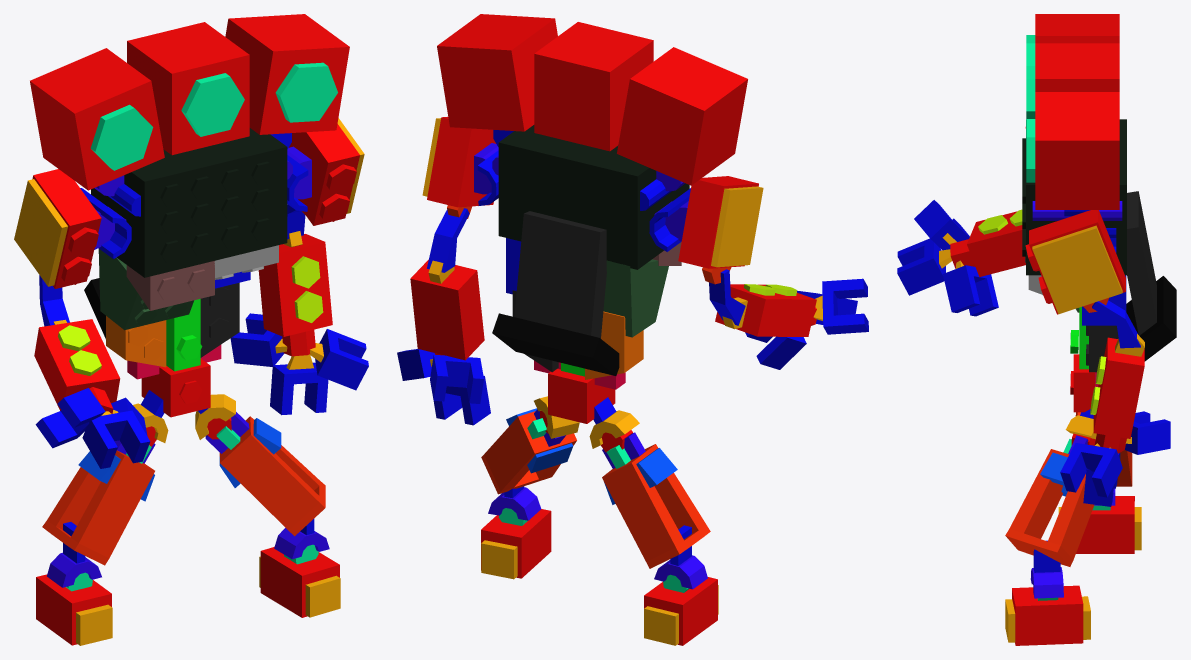
File: Brick_Robot_Characters_2_.fbx
The picture shows the model from 3 angles, left to right: view 1: azimuth 30°, elevation 25°; view 2: azimuth 150°, elevation 25°; view 3: azimuth 270°, elevation 25°; orthographic projection. The views are drawn at different scales.
Parts seen in each view (by area): view 1: Brick_Robot_Characters_2_006, Brick_Robot_Characters_2_009, Brick_Robot_Characters_2_008, Brick_Robot_Characters_2_000, Brick_Robot_Characters_2_007, Brick_Robot_Characters_2_001, Brick_Robot_Characters_2_003, Brick_Robot_Characters_2_010, Brick_Robot_Characters_2_004, Brick_Robot_Characters_2_011, Brick_Robot_Characters_2_005, Brick_Robot_Characters_2_013 (+2 smaller); view 2: Brick_Robot_Characters_2_006, Brick_Robot_Characters_2_009, Brick_Robot_Characters_2_008, Brick_Robot_Characters_2_000, Brick_Robot_Characters_2_003, Brick_Robot_Characters_2_007, Brick_Robot_Characters_2_004, Brick_Robot_Characters_2_005, Brick_Robot_Characters_2_001, Brick_Robot_Characters_2_013, Brick_Robot_Characters_2_002, Brick_Robot_Characters_2_011 (+2 smaller); view 3: Brick_Robot_Characters_2_000, Brick_Robot_Characters_2_006, Brick_Robot_Characters_2_005, Brick_Robot_Characters_2_001, Brick_Robot_Characters_2_012, Brick_Robot_Characters_2_002, Brick_Robot_Characters_2_004, Brick_Robot_Characters_2_010, Brick_Robot_Characters_2_008, Brick_Robot_Characters_2_013, Brick_Robot_Characters_2_011, Brick_Robot_Characters_2_009 (+1 smaller).
Boxes of the visible parts, <box> form: Brick_Robot_Characters_2_006: <box>84,128,287,417</box>; Brick_Robot_Characters_2_009: <box>30,48,164,216</box>; Brick_Robot_Characters_2_008: <box>127,22,249,155</box>; Brick_Robot_Characters_2_000: <box>225,14,349,179</box>; Brick_Robot_Characters_2_007: <box>14,169,131,288</box>; Brick_Robot_Characters_2_001: <box>195,394,325,536</box>; Brick_Robot_Characters_2_003: <box>42,390,168,565</box>; Brick_Robot_Characters_2_010: <box>230,313,368,415</box>; Brick_Robot_Characters_2_004: <box>258,204,332,336</box>; Brick_Robot_Characters_2_011: <box>34,275,120,410</box>; Brick_Robot_Characters_2_005: <box>287,118,364,225</box>; Brick_Robot_Characters_2_013: <box>36,522,112,645</box>; Brick_Robot_Characters_2_006: <box>492,125,689,423</box>; Brick_Robot_Characters_2_009: <box>617,47,747,210</box>; Brick_Robot_Characters_2_008: <box>534,22,653,151</box>; Brick_Robot_Characters_2_000: <box>437,14,557,175</box>; Brick_Robot_Characters_2_003: <box>589,397,710,568</box>; Brick_Robot_Characters_2_007: <box>649,176,763,284</box>; Brick_Robot_Characters_2_004: <box>410,208,484,360</box>; Brick_Robot_Characters_2_005: <box>422,116,498,218</box>; Brick_Robot_Characters_2_001: <box>481,396,579,494</box>; Brick_Robot_Characters_2_013: <box>644,525,718,645</box>; Brick_Robot_Characters_2_002: <box>481,486,551,579</box>; Brick_Robot_Characters_2_011: <box>709,269,816,336</box>; Brick_Robot_Characters_2_000: <box>1026,92,1122,220</box>; Brick_Robot_Characters_2_006: <box>1022,119,1176,412</box>; Brick_Robot_Characters_2_005: <box>1025,210,1125,314</box>; Brick_Robot_Characters_2_001: <box>1005,409,1096,566</box>; Brick_Robot_Characters_2_012: <box>897,200,998,316</box>; Brick_Robot_Characters_2_002: <box>1005,540,1090,645</box>; Brick_Robot_Characters_2_004: <box>1090,300,1144,438</box>; Brick_Robot_Characters_2_010: <box>1060,411,1170,506</box>; Brick_Robot_Characters_2_008: <box>1026,43,1119,118</box>; Brick_Robot_Characters_2_013: <box>1058,488,1141,553</box>; Brick_Robot_Characters_2_011: <box>967,209,1025,276</box>; Brick_Robot_Characters_2_009: <box>1026,14,1119,65</box>.
Bounding box in the file's own units: 394 × 524 × 250.
